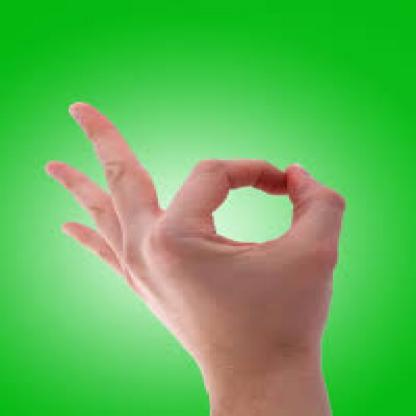ok: (37, 98, 350, 358)
